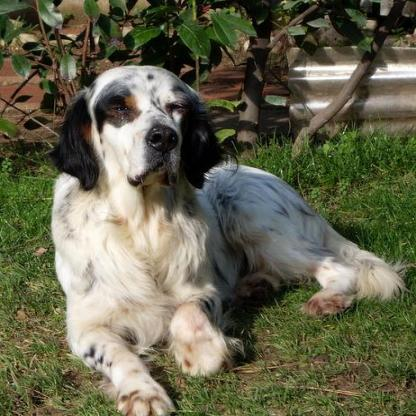English_setter: (50, 62, 407, 414)
